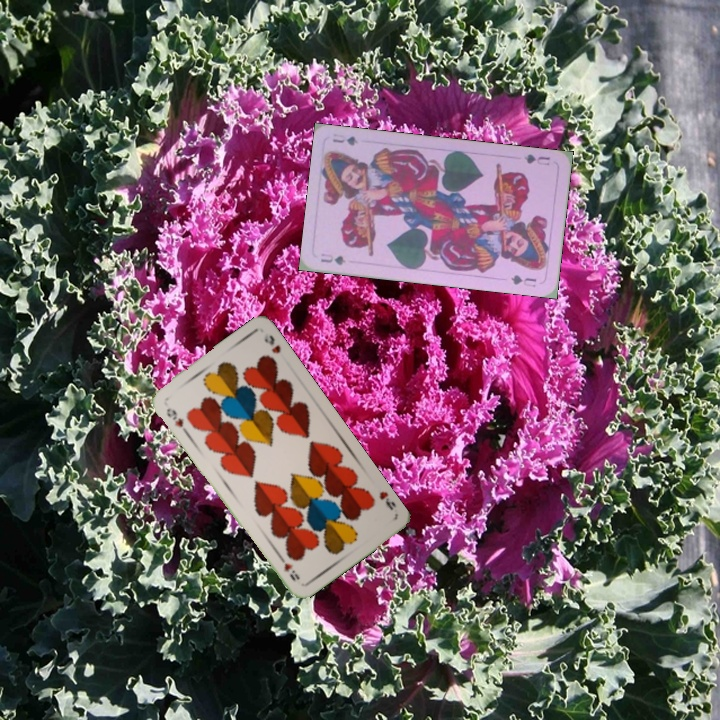GU: (317, 249, 348, 268), (520, 150, 552, 168)
H9: (162, 403, 186, 430), (375, 487, 399, 513)
